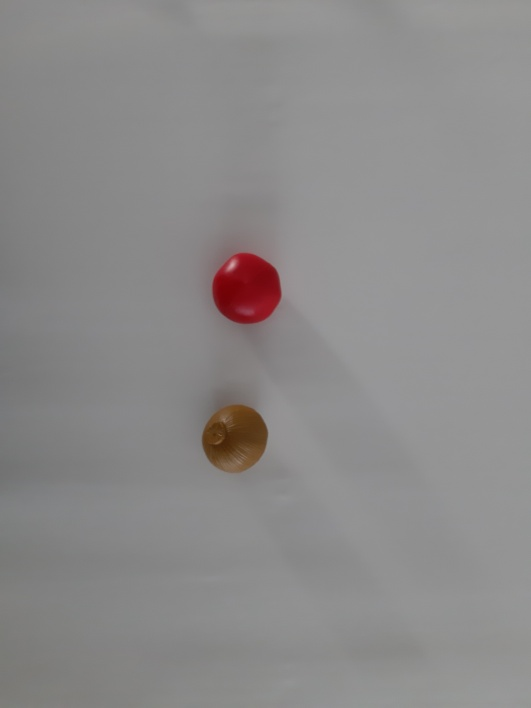onion: (182, 391, 285, 489)
tomato: (198, 242, 307, 343)
